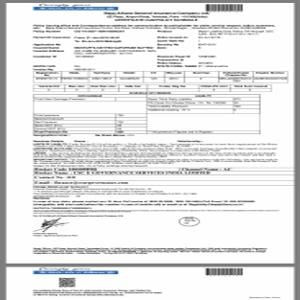image: (30, 2, 120, 12)
table: (33, 92, 261, 136), (33, 69, 290, 83)
text: (29, 23, 277, 69), (33, 139, 282, 169), (100, 9, 211, 24)
